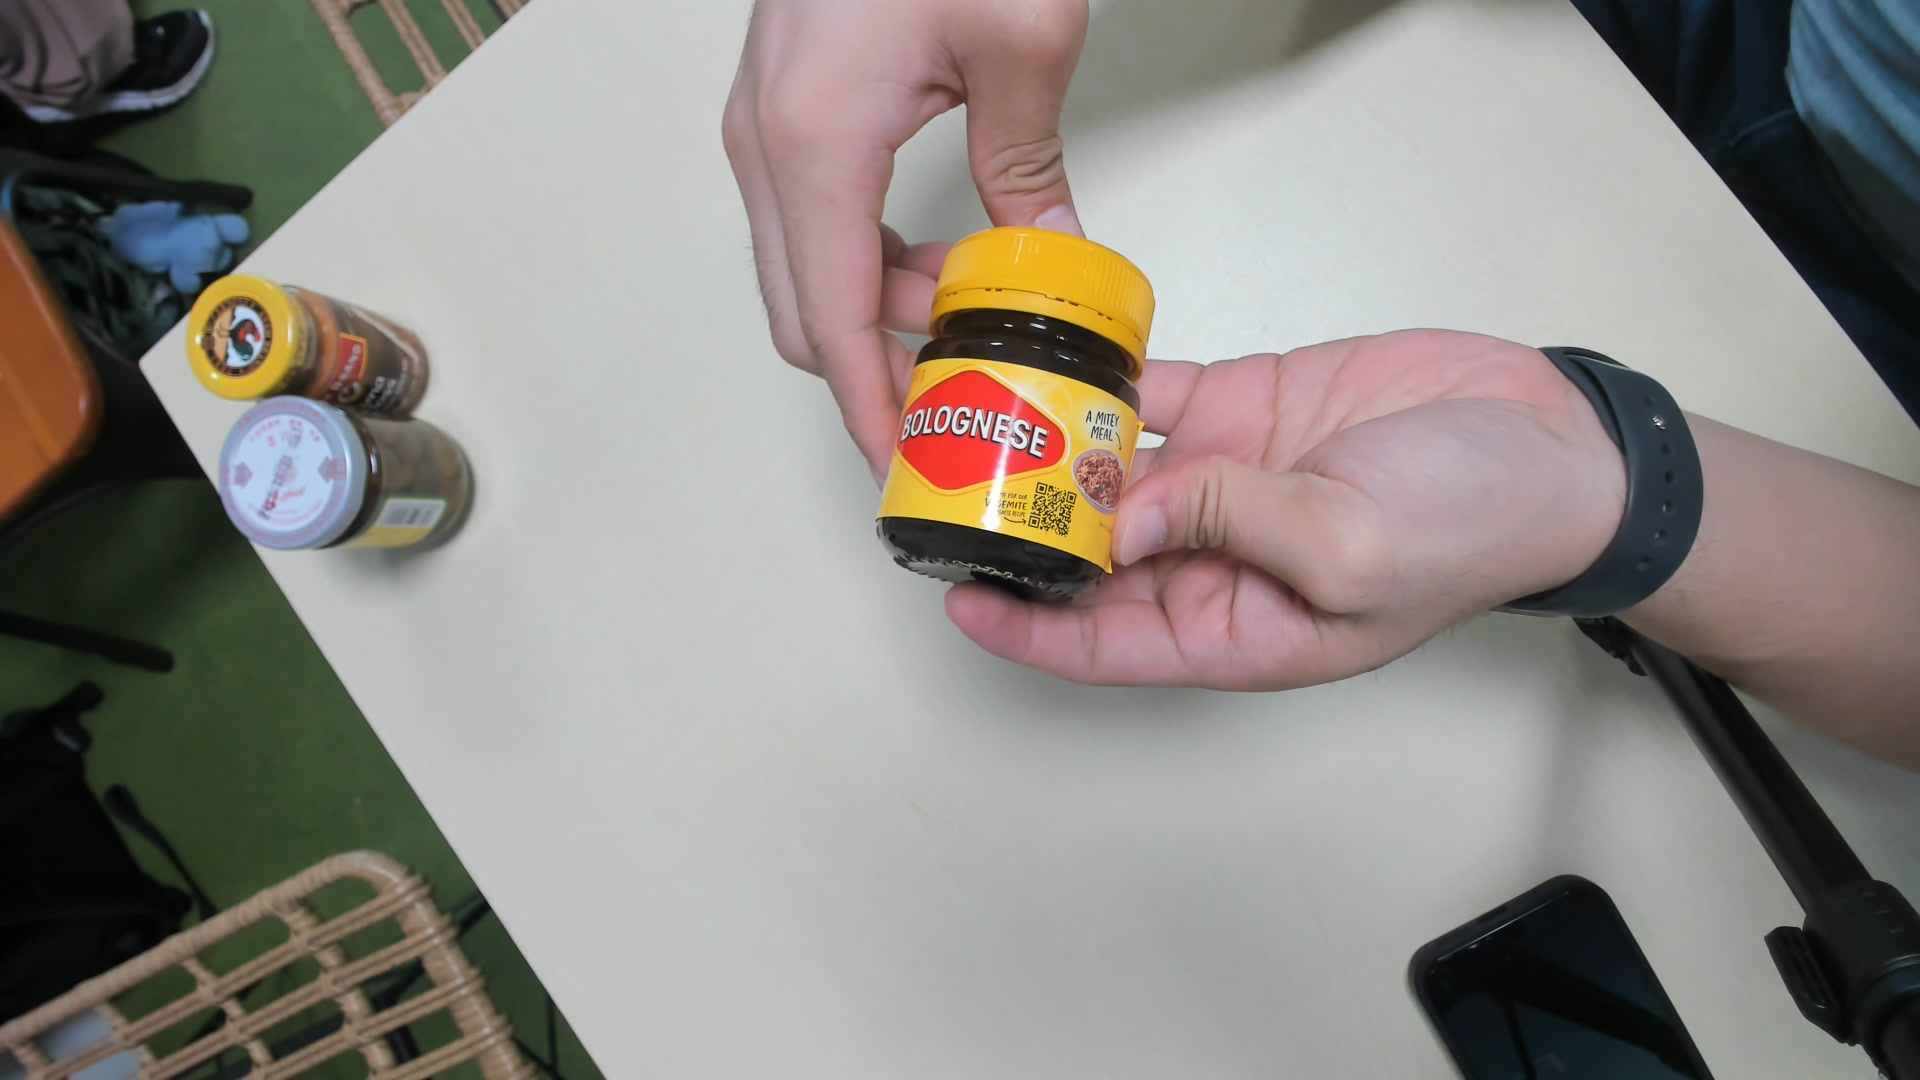OtherSauceDressing_200-299g_Halal_NonHealthy: (886, 228, 1150, 601)
